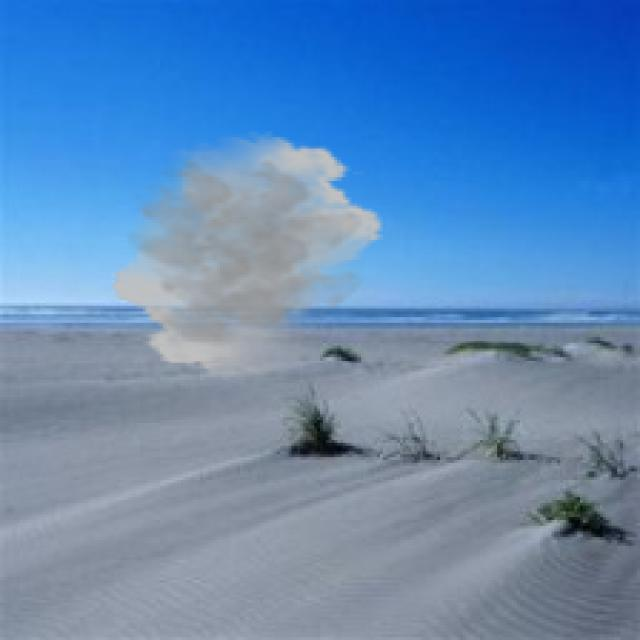Smoke: (108, 131, 386, 380)
